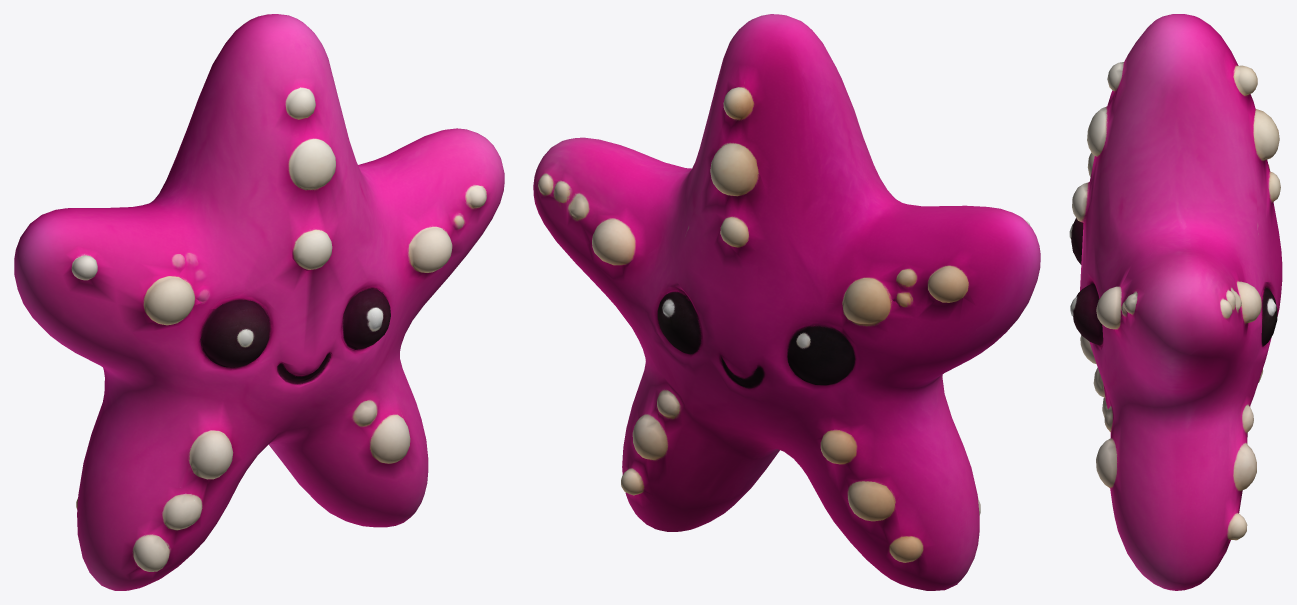
File: starbit.glb
The picture shows the model from 3 angles, left to right: view 1: azimuth 30°, elevation 25°; view 2: azimuth 150°, elevation 25°; view 3: azimuth 270°, elevation 25°; orthographic projection. The views are drawn at different scales.
Parts seen in each view (by area): view 1: starbit; view 2: starbit; view 3: starbit.
Boxes of the visible parts, x1=… form: starbit: x1=14, y1=14, x2=504, y2=590; starbit: x1=533, y1=14, x2=1040, y2=590; starbit: x1=1069, y1=14, x2=1282, y2=590.
Bounding box in the file's own units: 0.9586 × 1 × 0.3754.
1 material, 1 textured.
